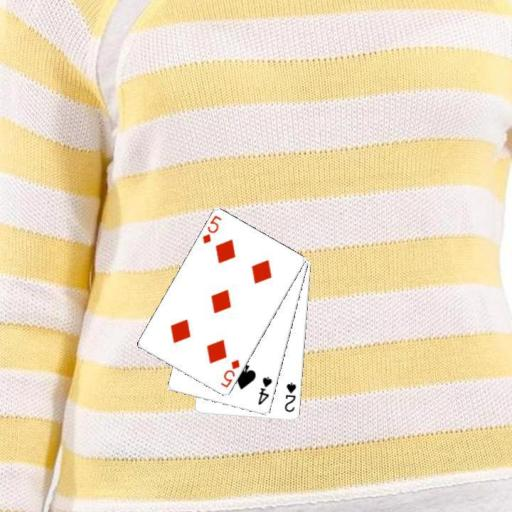2S: (282, 379, 298, 414)
4S: (255, 373, 274, 407)
5D: (218, 356, 241, 390), (199, 213, 223, 245)
